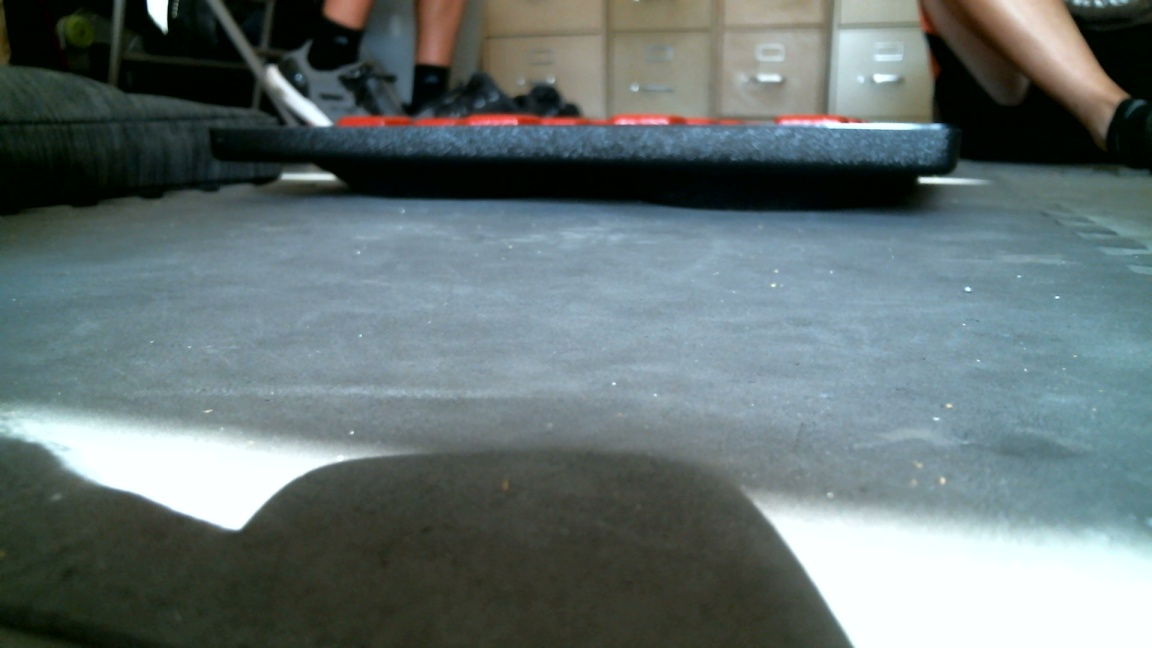red_foundation: (206, 116, 953, 246)
